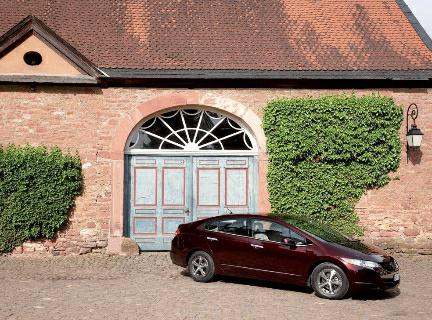本田-FCX: (167, 208, 406, 304)
